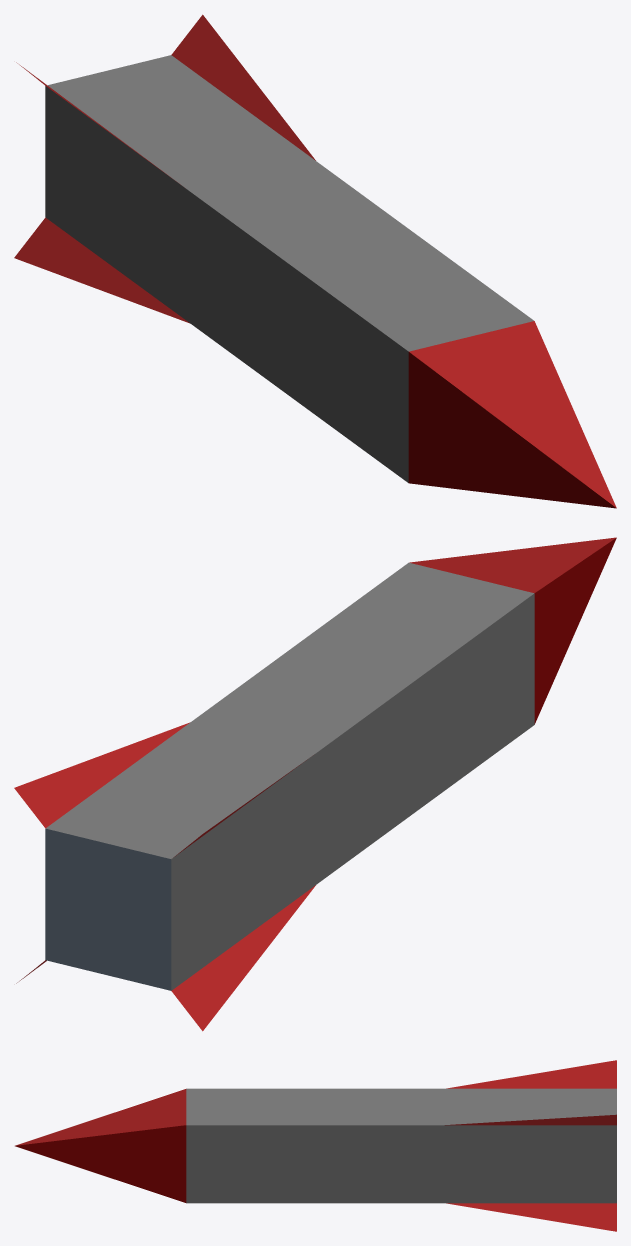
File: missile.obj
3 renders of one model, top to bottom at view 1: azimuth 30°, elevation 25°; view 2: azimuth 150°, elevation 25°; view 3: azimuth 270°, elevation 25°, orthographic. The views are drawn at different scales.
Bounding box in the file's own units: 24 × 24 × 112.
